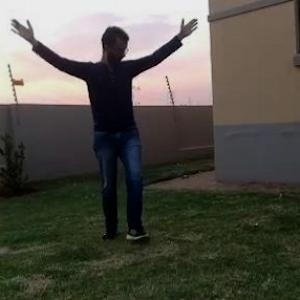takeoff: (1, 0, 221, 253)
